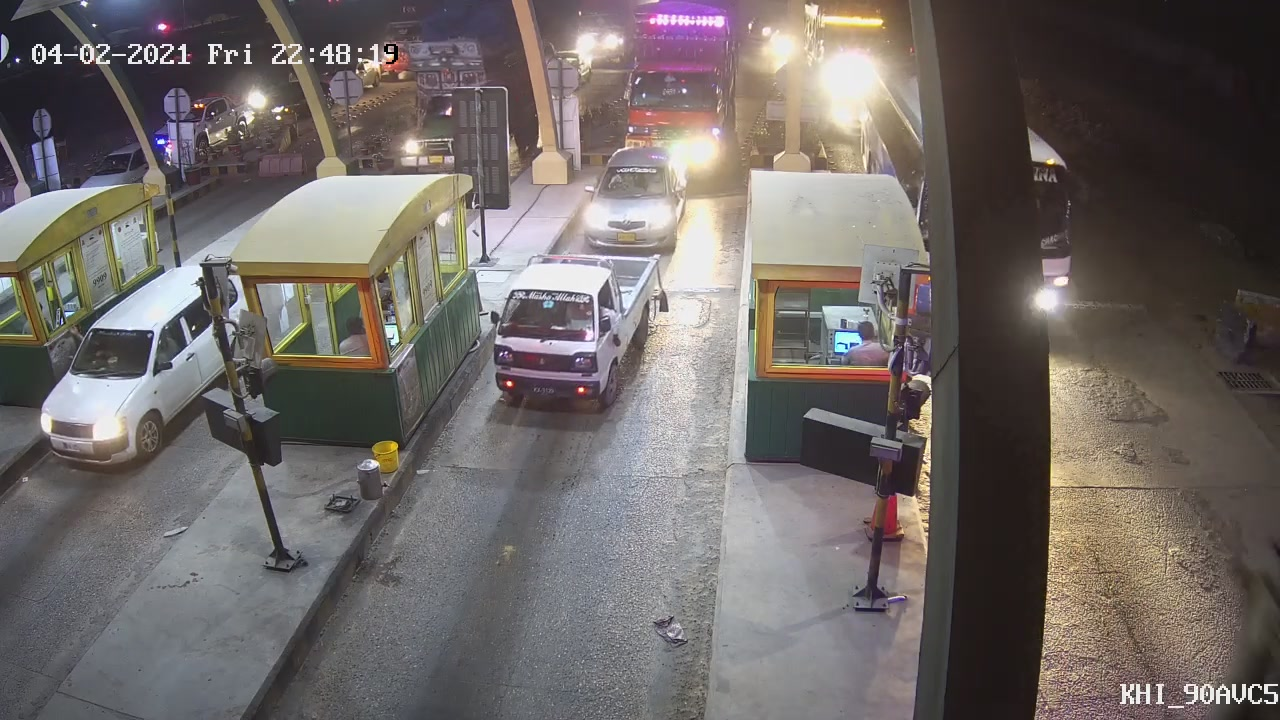F1: (490, 253, 662, 414), (583, 146, 692, 250)
